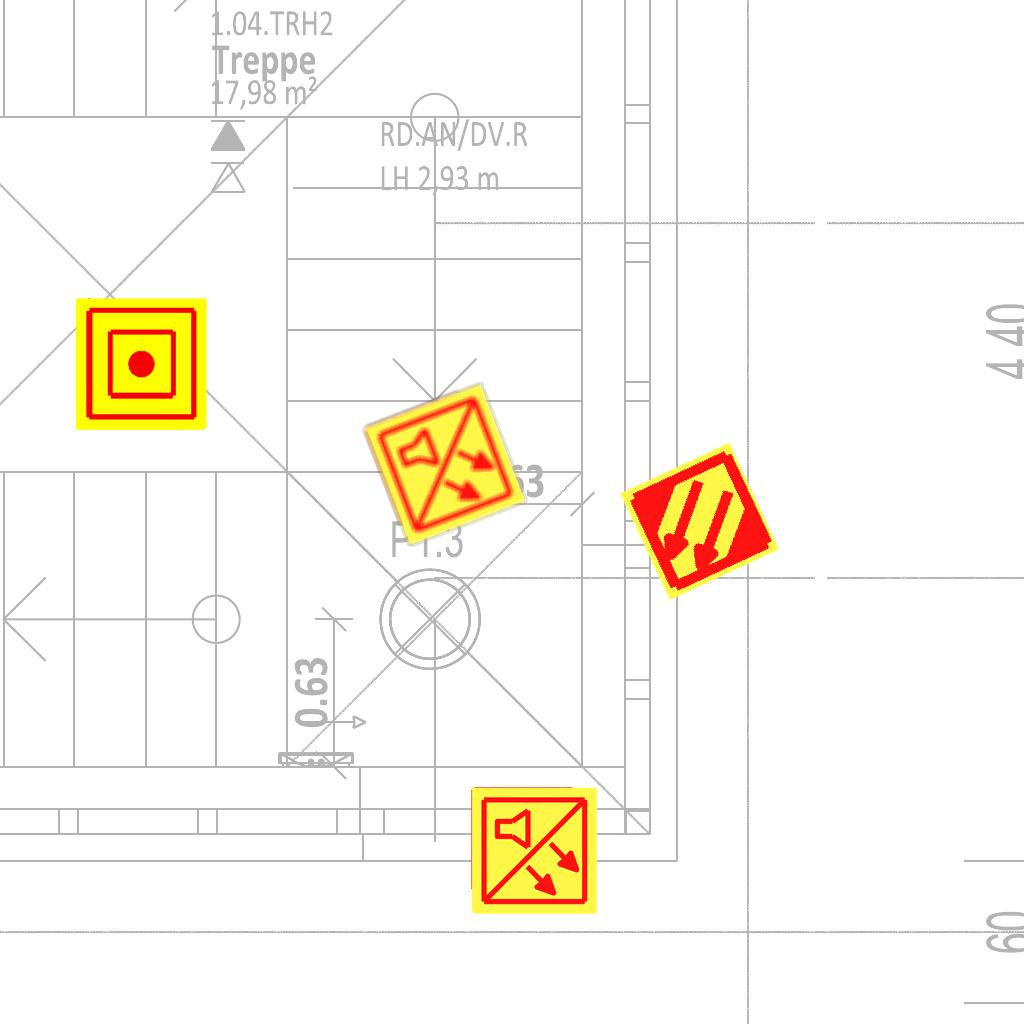ASR_Ansaugrauchmelder: (616, 438, 783, 605)
NAM-Nichtautomatischer_Melder: (75, 298, 207, 430)
OKW_Multisensormelder_(Kombination_optischer_Rauch-Kahlenmonoxid_Waerme-Melder): (359, 379, 531, 551), (468, 785, 600, 917)
